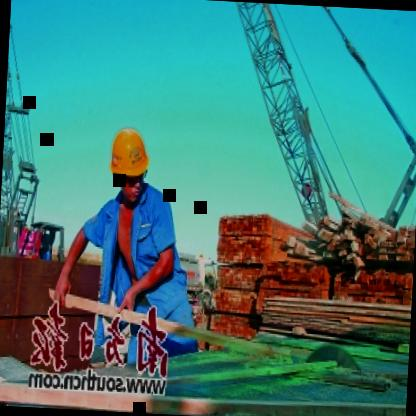helmet: (104, 121, 154, 208)
